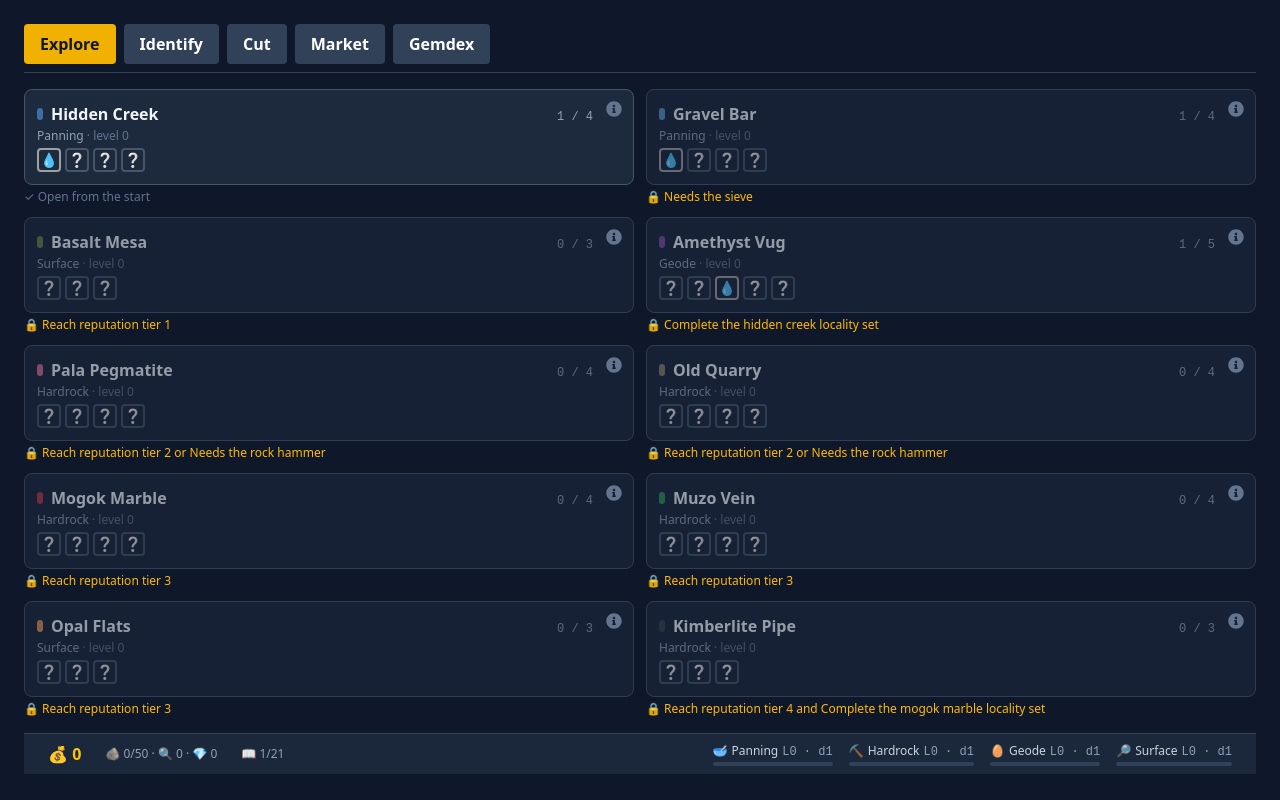
Test case: the rocker box end to end › parks from the run screen and reports it on the map
This screenshot has width=1280, height=800.
What coordinates should you click on to do the following:
click the button with aria-label "Hidden Creek,"
I would click on:
 (105, 114)
Its box is [24,89,634,185].
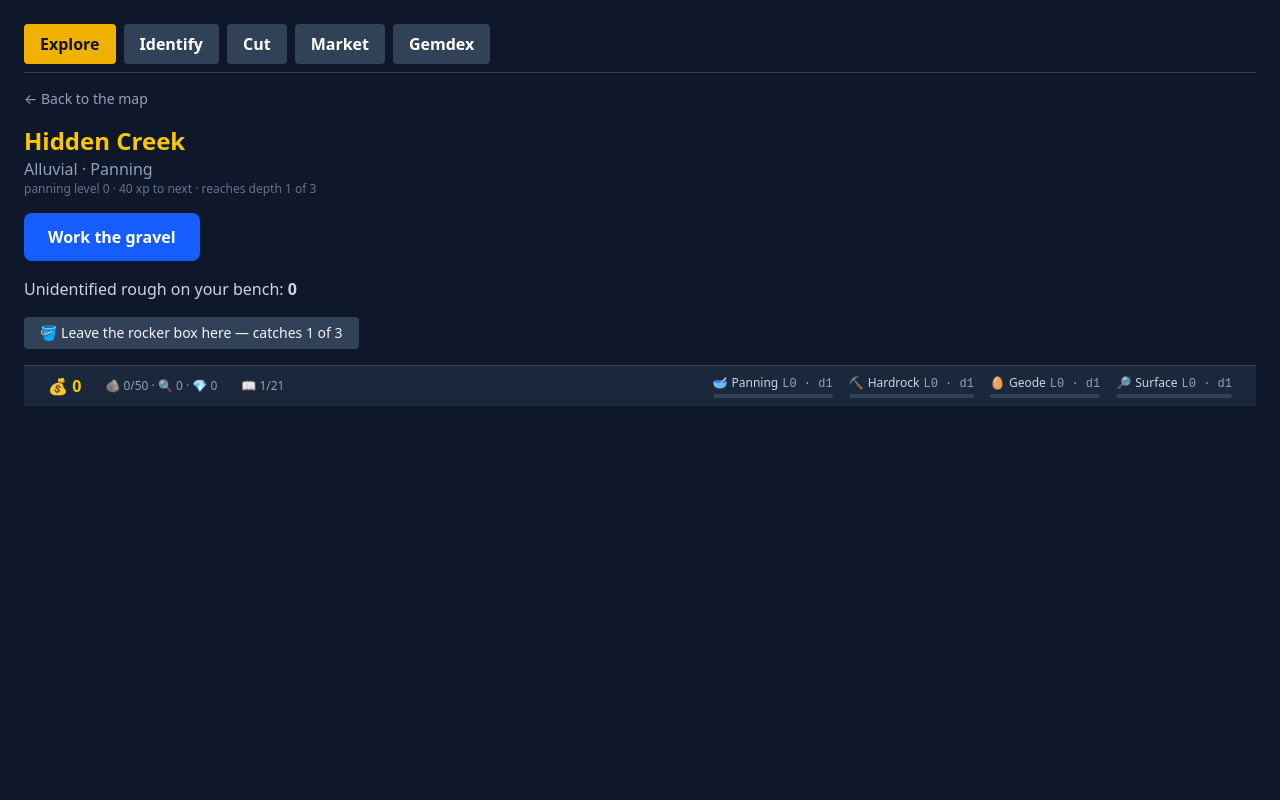
What coordinates should you click on to do the following:
click the button "🪣 Leave the rocker box here — catches 1 of 3"
I would click on:
 (191, 333)
Its box is [24,317,358,349].
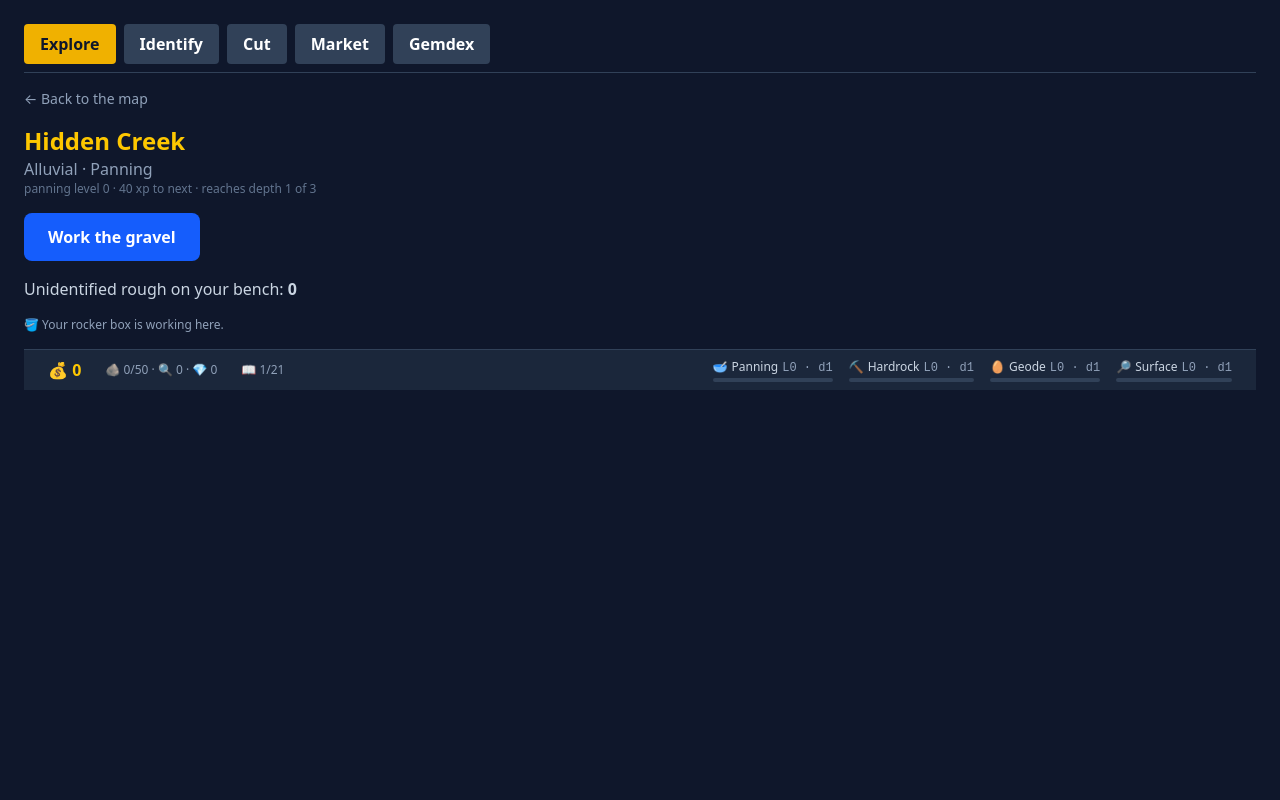
What coordinates should you click on to do the following:
click the button "← Back to the map"
I would click on:
 (86, 99)
Its box is [24,89,148,109].
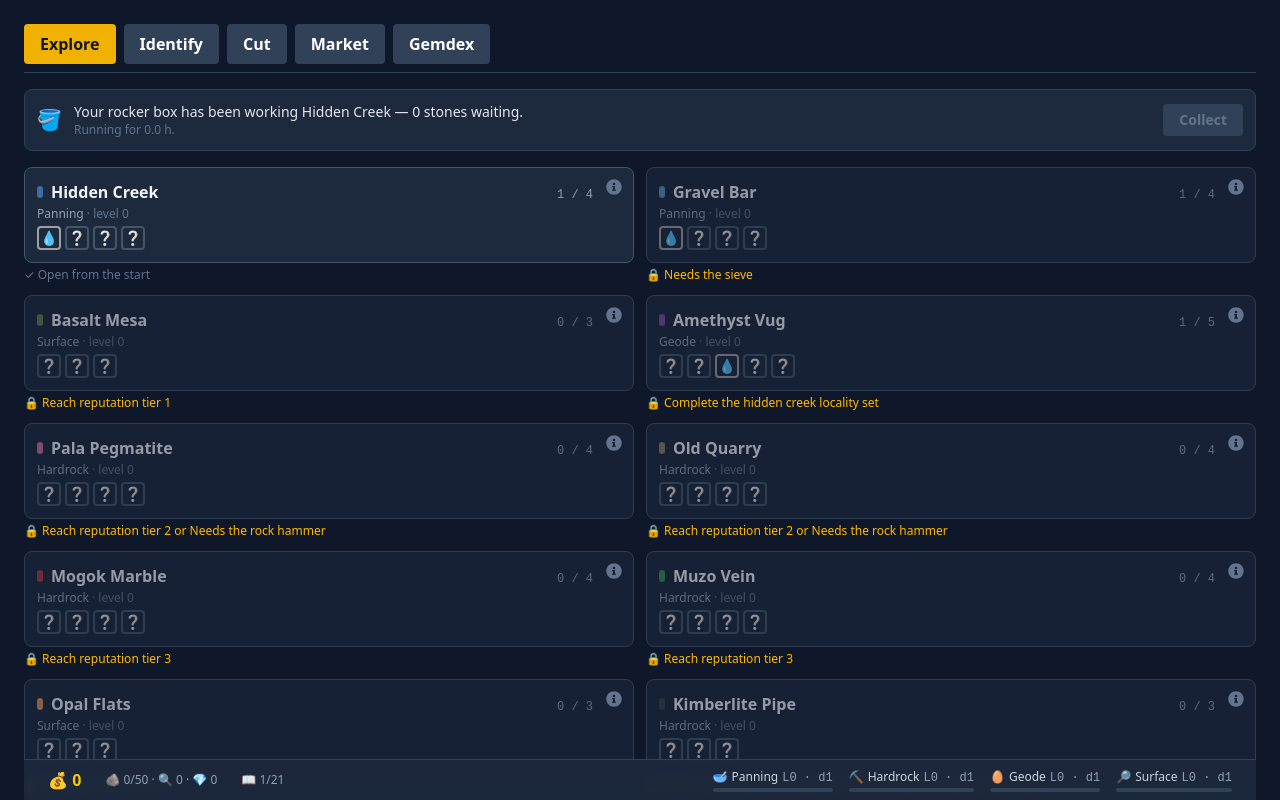
Result: the message shows "Hidden Creek" at [302,102,391,121]
